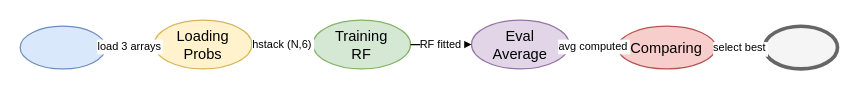
The diagram is 858 pixels wide and 89 high, and some of its shapes have lost their labels. Here are the shapes that lost their labels. From the top down, the box of each, then its label:
(19, 25, 106, 69): Init
(762, 24, 839, 70): Done
